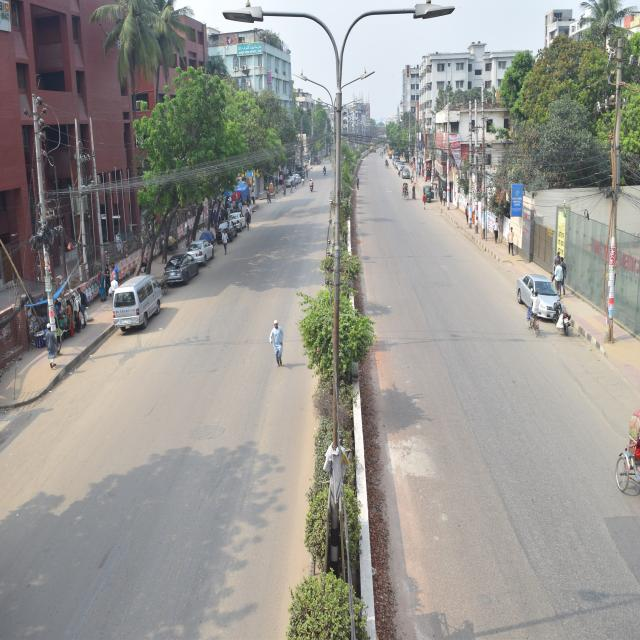car: (516, 266, 570, 320), (159, 252, 203, 286), (186, 237, 210, 275), (230, 202, 242, 234), (214, 217, 232, 238)
microbus: (110, 274, 167, 341)
motorbike: (541, 294, 574, 358), (302, 175, 314, 196), (323, 159, 331, 182)
